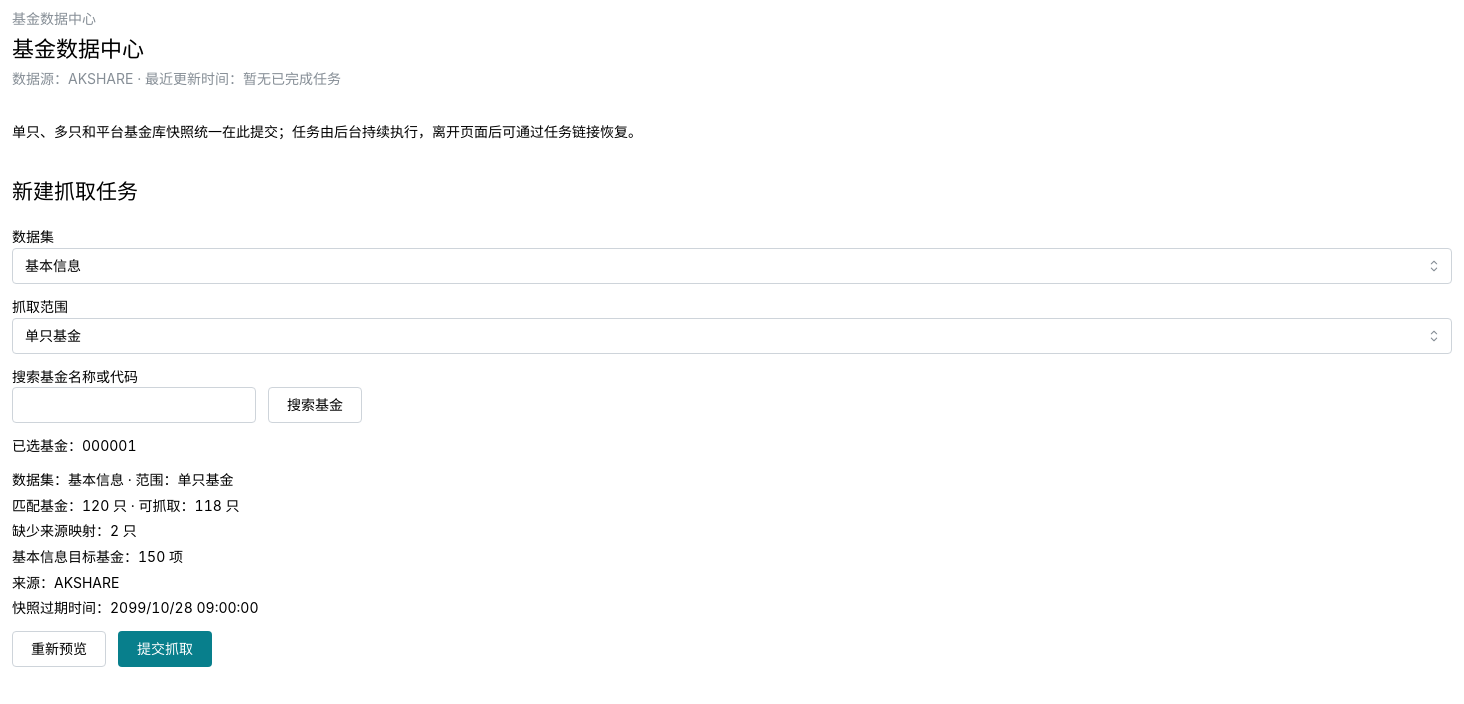
fund data center › previews one fund and re-previews when dataset changes, submitting only the snapshot and key
Check: the text "缺少来源映射：2 只" is shown, box [12,522,137,539]
Select "NAV 与分红/拆分" in the dropdown labelled "数据集" at (732, 266), box [12,248,1452,284]
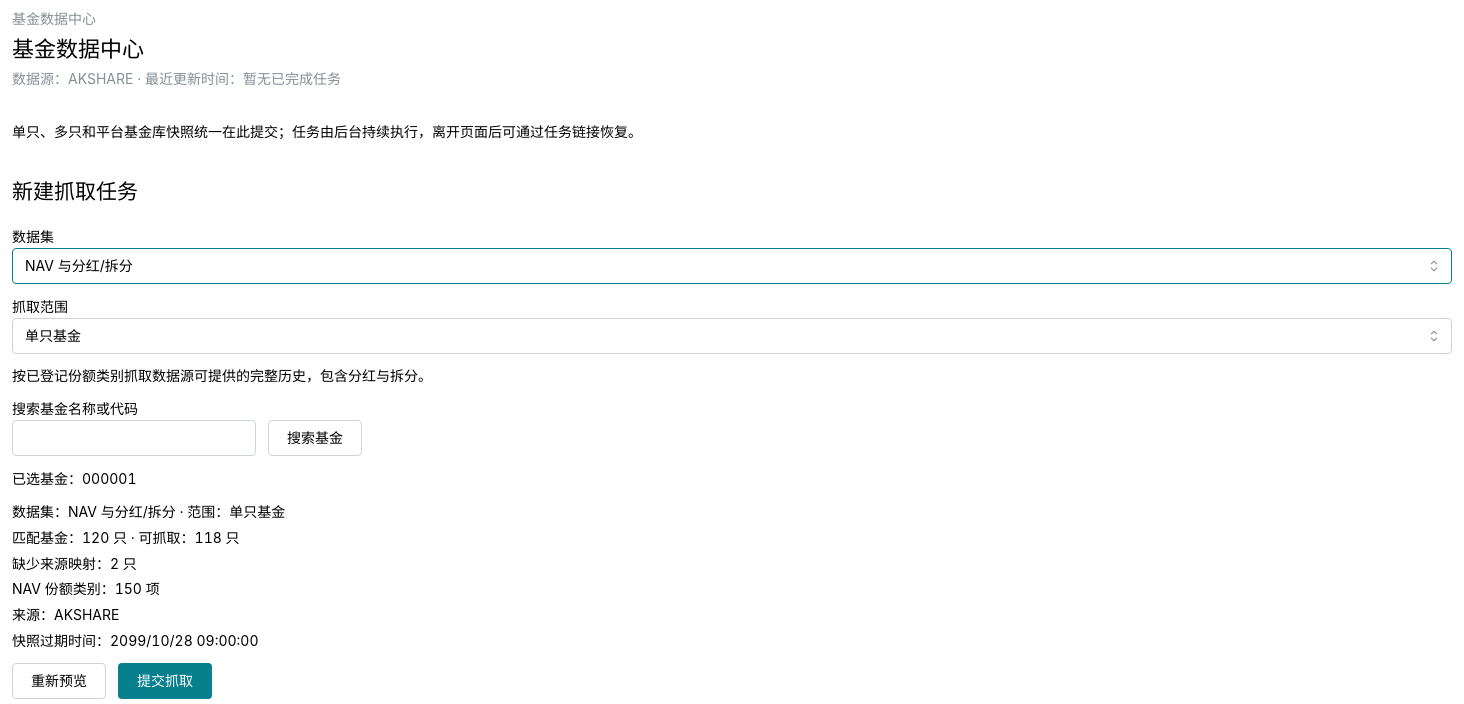
Click the button "提交抓取" at (165, 681), box [118,663,212,699]
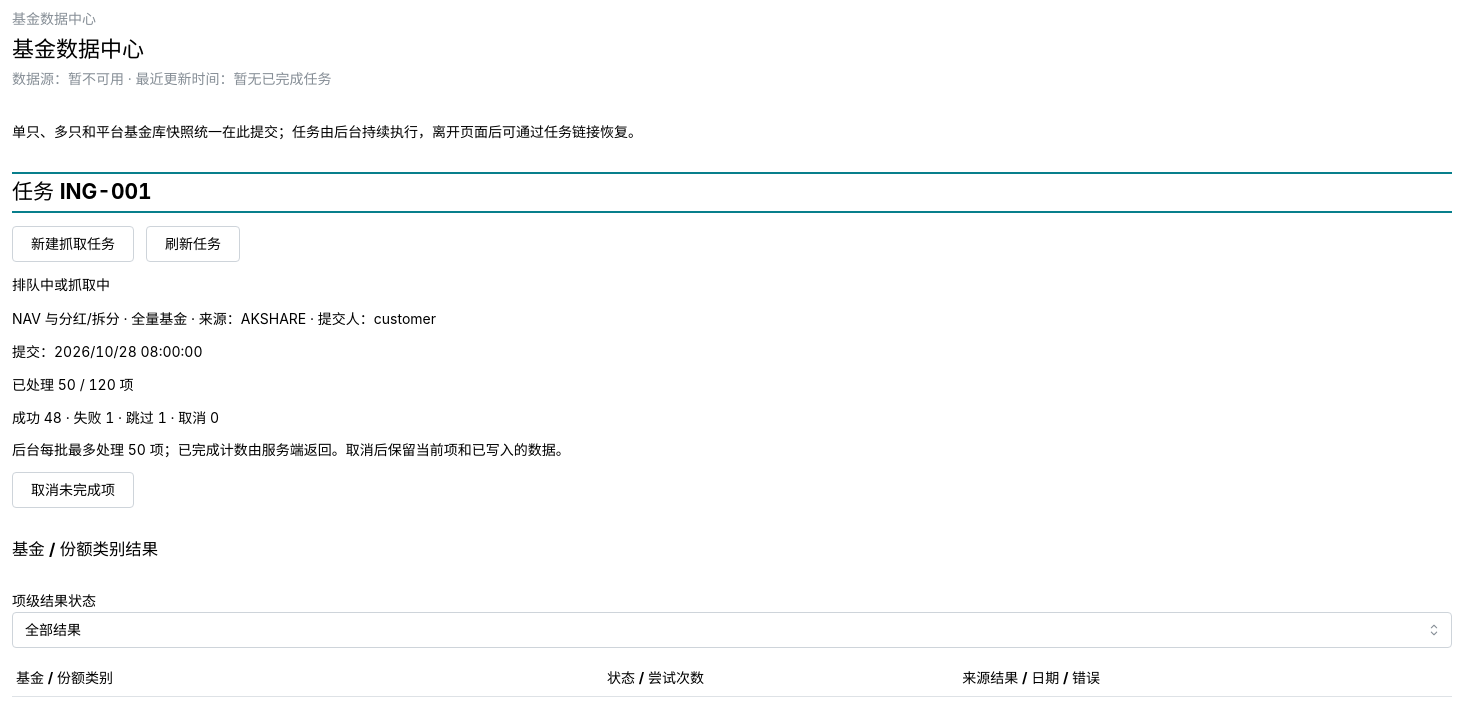
Check: the heading "任务 ING-001" is shown, box [12,179,152,204]
